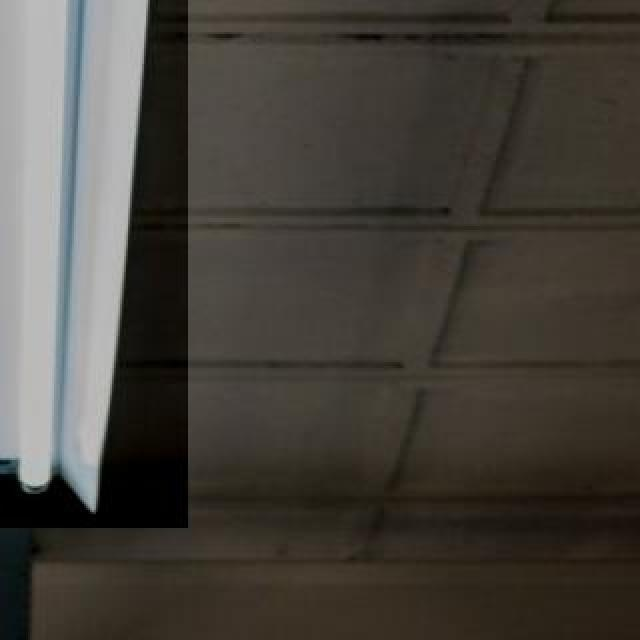fluorescent tube: (16, 0, 86, 510), (0, 0, 2, 512)
